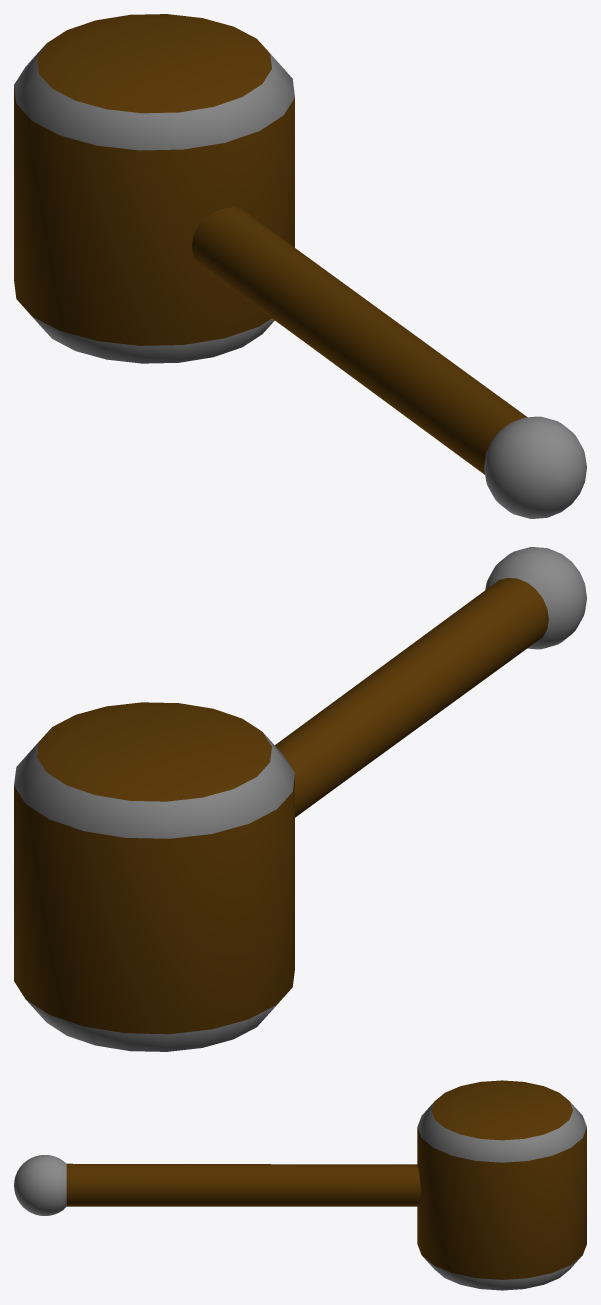
File: weeblhammer.fbx
The picture shows the model from 3 angles, top to bottom: view 1: azimuth 30°, elevation 25°; view 2: azimuth 150°, elevation 25°; view 3: azimuth 270°, elevation 25°; orthographic projection. The views are drawn at different scales.
Visible parts, largest first — view 1: weeblhammer:pCylinder4; view 2: weeblhammer:pCylinder4; view 3: weeblhammer:pCylinder4.
Boxes of the visible parts, bbox=[...] form: weeblhammer:pCylinder4: bbox=[14, 14, 586, 518]; weeblhammer:pCylinder4: bbox=[14, 547, 586, 1051]; weeblhammer:pCylinder4: bbox=[14, 1080, 586, 1290].
Size of the model in its own units: 54.7 by 57.53 by 185.
